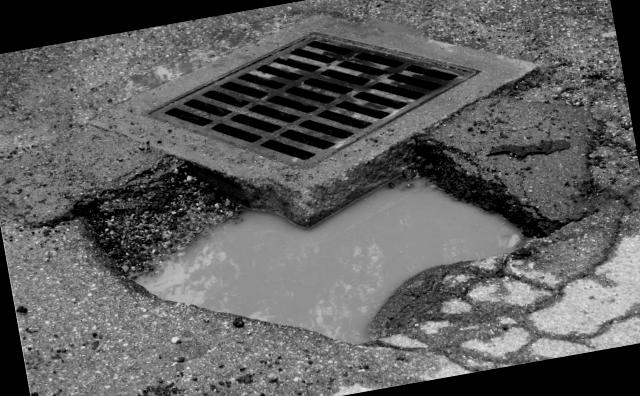Pothole: (78, 74, 619, 396)
